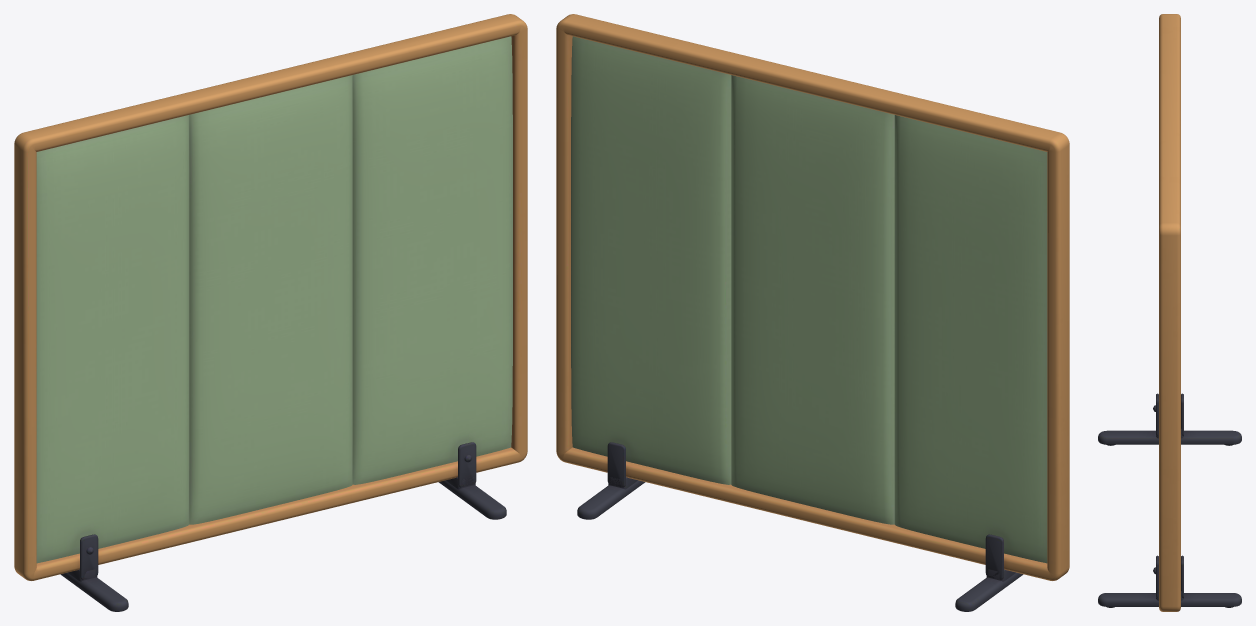
File: office-divider.glb
3 renders of one model, left to right at view 1: azimuth 30°, elevation 25°; view 2: azimuth 150°, elevation 25°; view 3: azimuth 270°, elevation 25°, orthographic. The views are drawn at different scales.
Parts seen in each view (by area): view 1: office-divider_body; view 2: office-divider_body; view 3: office-divider_body.
Part boxes in pixels (<box>): office-divider_body: <box>14,14,527,611</box>; office-divider_body: <box>556,14,1069,611</box>; office-divider_body: <box>1098,14,1241,611</box>.
Bounding box in the file's own units: 1.6 × 1.4 × 0.45.
1 material, 1 textured.
